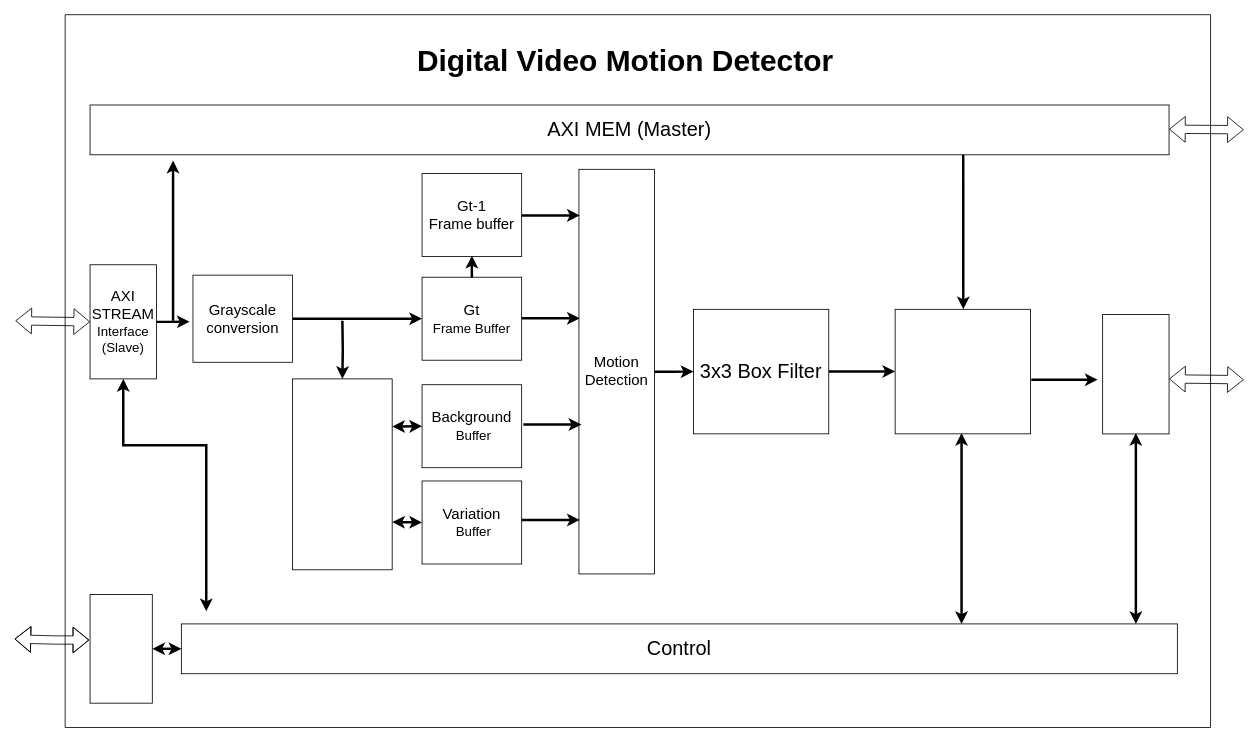
Some shapes in this 1257 by 742 pixel diagram are drawn without their labels. Each missing label, with the centre of its shape:
"AXI LITE Interface (Slave)" goes at (x=120, y=648).
"AXI STREAM Interface (Master)" goes at (x=1135, y=374).
"Motion Overlay" goes at (x=962, y=371).
"Sigma-Delta Update" goes at (x=342, y=474).
